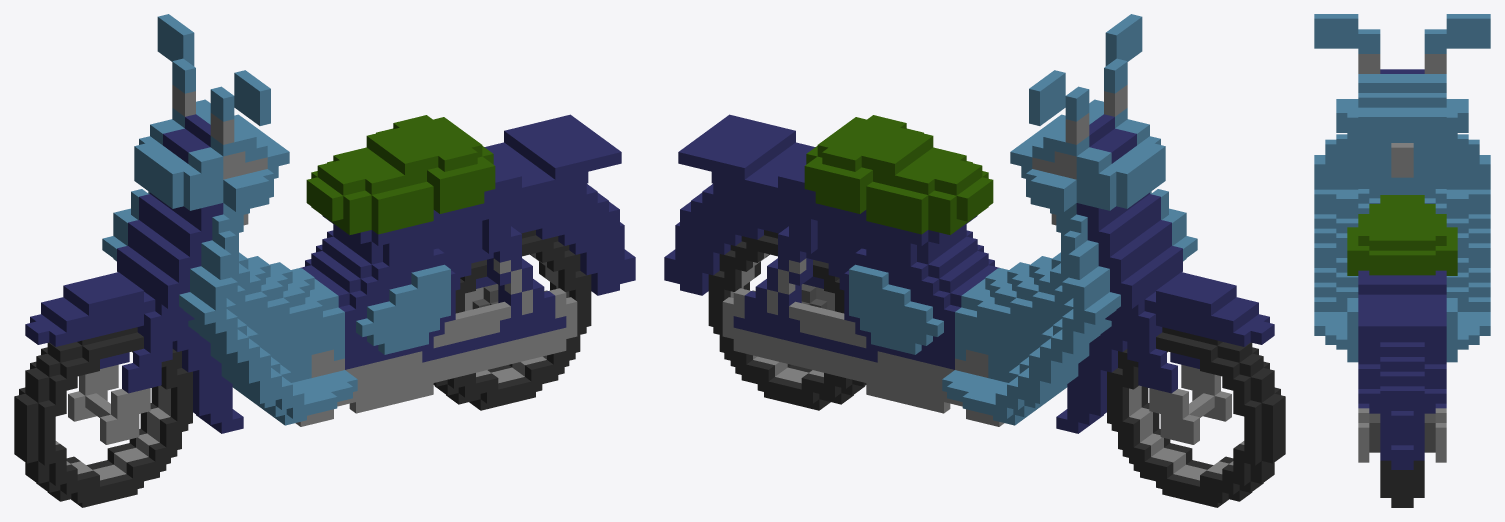
Rendered from cub.obj.
3 views of the same model, side by side, from view 1: azimuth 30°, elevation 25°; view 2: azimuth 150°, elevation 25°; view 3: azimuth 270°, elevation 25° (orthographic). The views are drawn at different scales.
Size of the model in its own units: 5.5 by 3.6 by 1.6.
